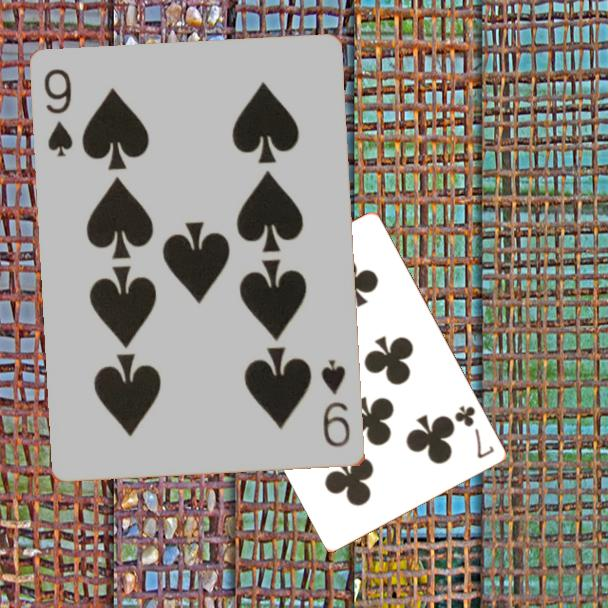c07: (451, 402, 498, 462)
s09: (318, 356, 354, 450), (41, 66, 76, 160)
